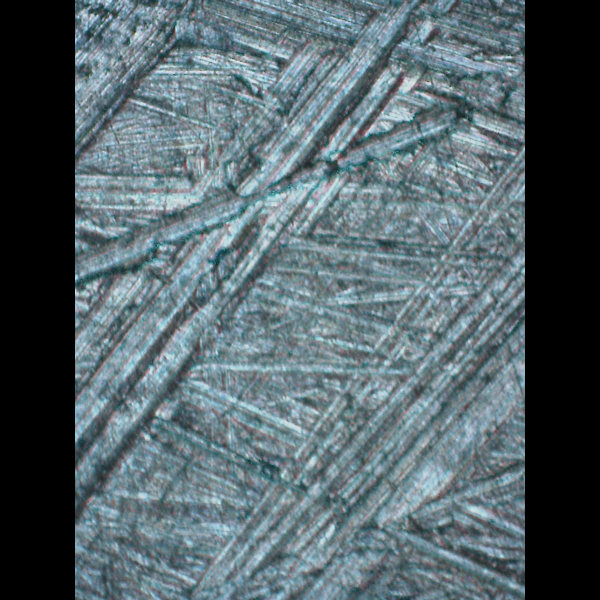d: (75, 0, 418, 553), (181, 151, 525, 599), (75, 0, 207, 164)
